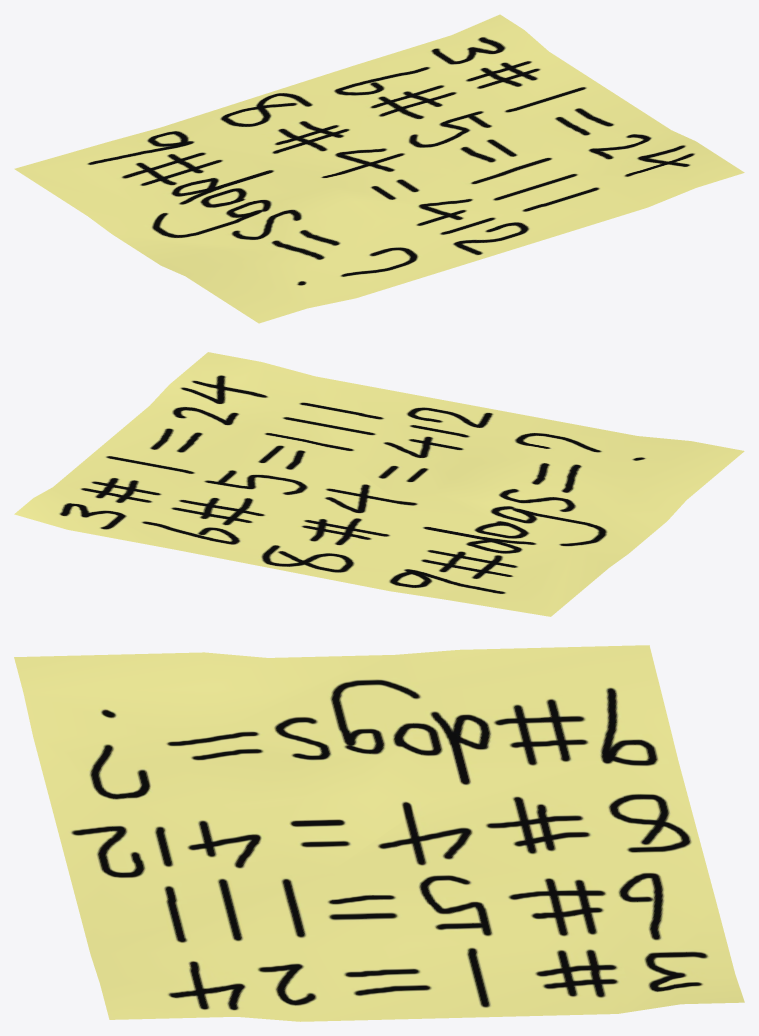
Rendered from puzzlePaper-v2.glb.
3 renders of one model, top to bottom at view 1: azimuth 30°, elevation 25°; view 2: azimuth 150°, elevation 25°; view 3: azimuth 270°, elevation 25°, orthographic. The views are drawn at different scales.
Parts seen in each view (by area): view 1: Object_2; view 2: Object_2; view 3: Object_2.
Part boxes in pixels (x1,y1,x2,y2): Object_2: (14,14,744,323); Object_2: (14,352,744,616); Object_2: (14,645,744,1021).
Bounding box in the file's own units: 7.86 × 0.1046 × 6.43.
1 material, 1 textured.
